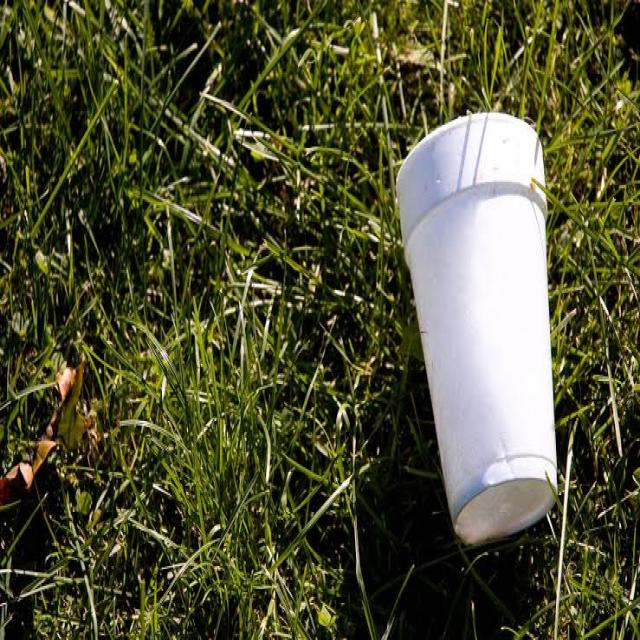plastic: (388, 99, 568, 547)
